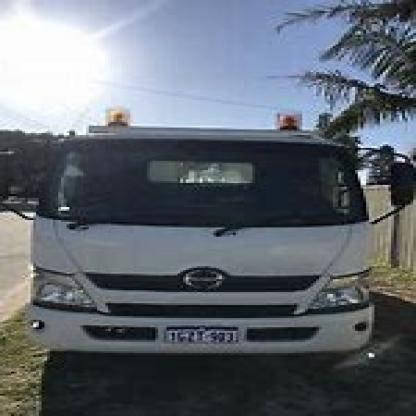dump_truck: (22, 100, 394, 372)
